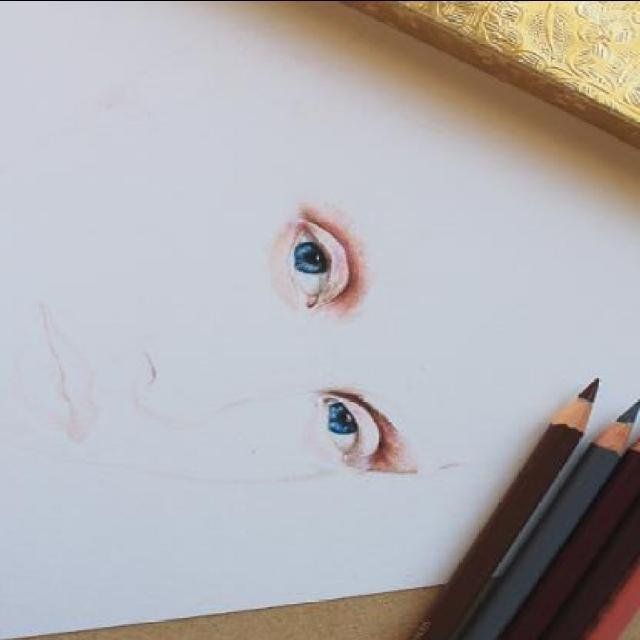pencil: (538, 368, 604, 442), (586, 396, 640, 470)
